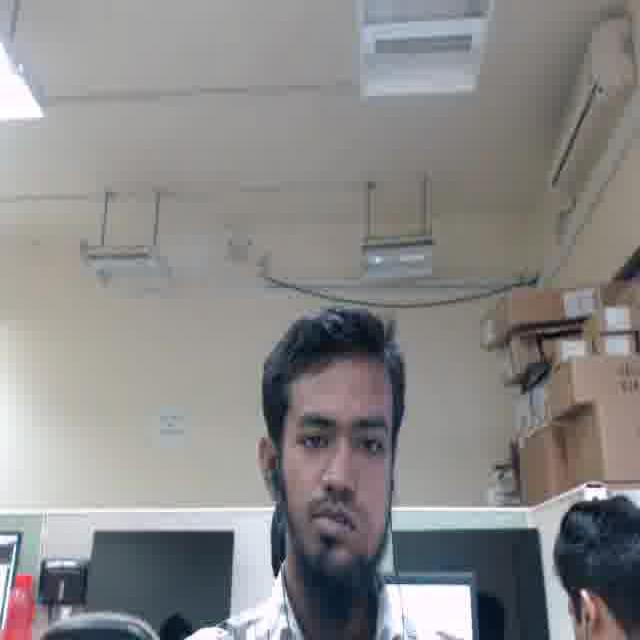Engaged: (282, 368, 396, 573)
